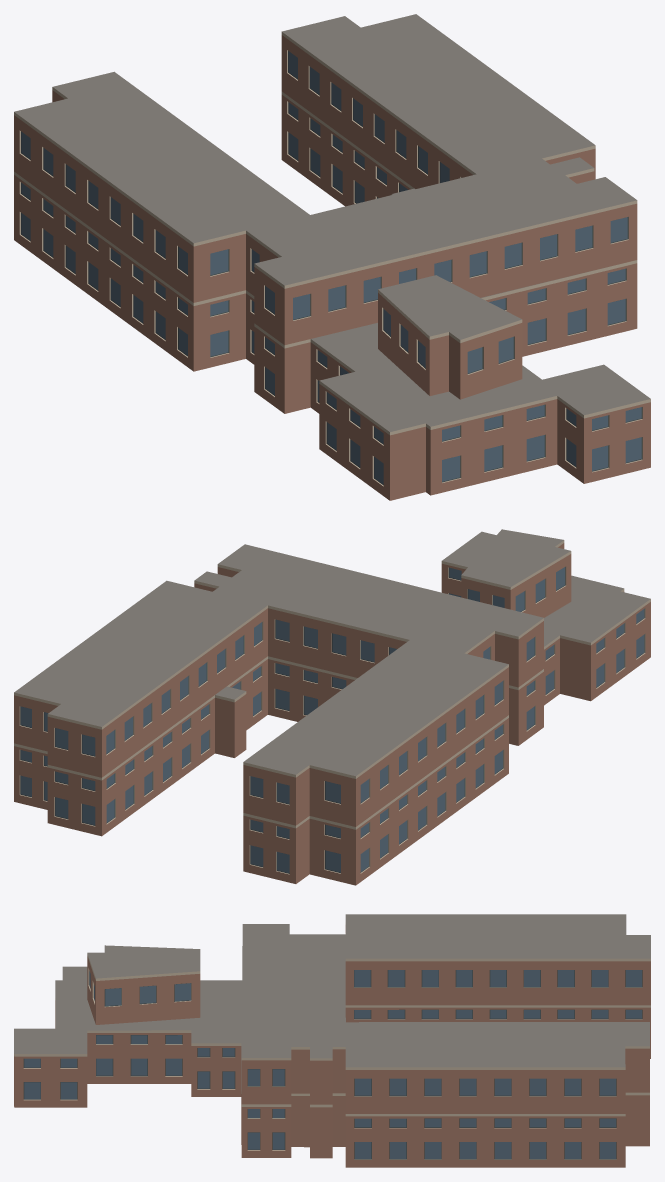
The model's file is dc-au-asbury-building.detail.glb.
The picture shows the model from 3 angles, top to bottom: view 1: azimuth 30°, elevation 25°; view 2: azimuth 150°, elevation 25°; view 3: azimuth 270°, elevation 25°; orthographic projection. The views are drawn at different scales.
Visible parts, largest first — view 1: Asbury Building; view 2: Asbury Building; view 3: Asbury Building.
Boxes of the visible parts, x1,y1,x2,y2 form: Asbury Building: (14, 14, 650, 500); Asbury Building: (14, 529, 650, 885); Asbury Building: (14, 914, 650, 1167).
Size of the model in its own units: 41.61 by 12.7 by 73.23.
